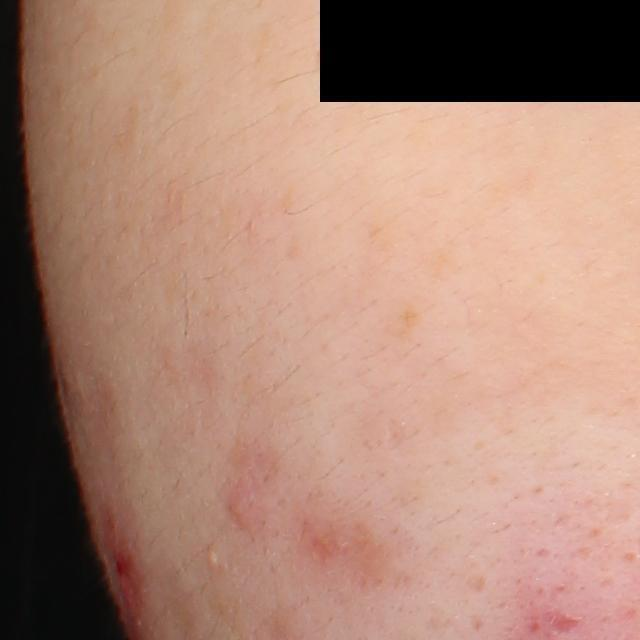atrophic_scar: (547, 608, 579, 633)
comedo: (203, 542, 228, 576)
papule: (226, 464, 272, 537)
